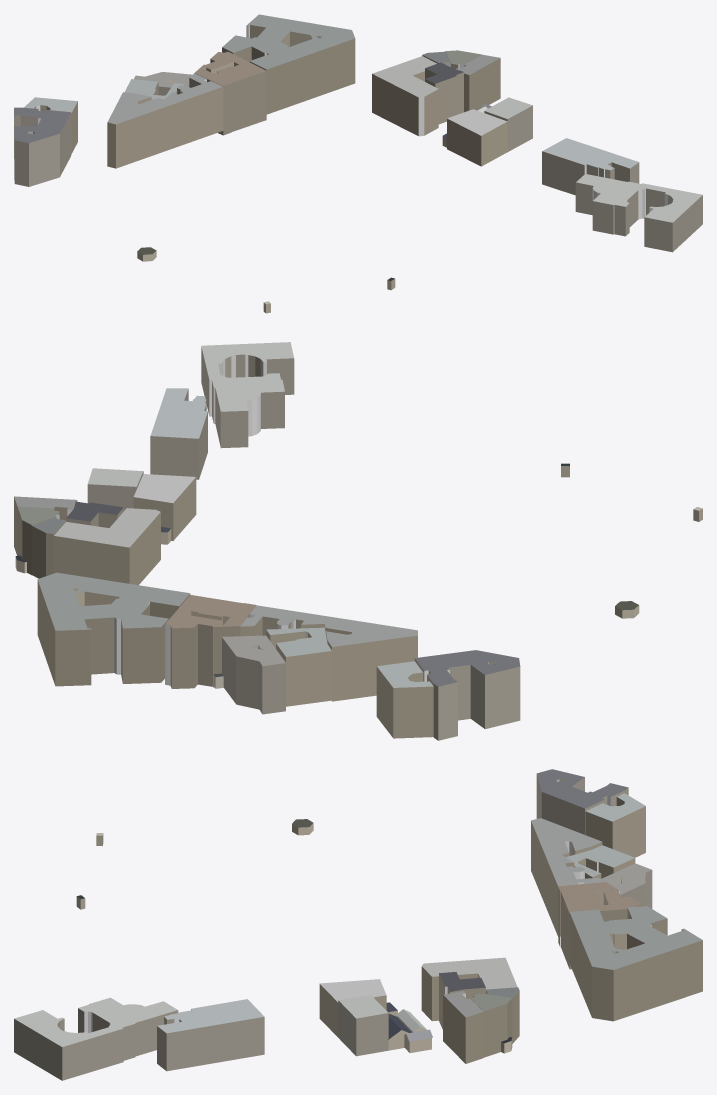
3 renders of one model, top to bottom at view 1: azimuth 30°, elevation 25°; view 2: azimuth 150°, elevation 25°; view 3: azimuth 270°, elevation 25°, orthographic. The views are drawn at different scales.
Visible parts, largest first — view 1: tuile; view 2: tuile; view 3: tuile.
Part boxes in pixels (x1=…): tuile: x1=14, y1=14, x2=702, y2=313; tuile: x1=14, y1=342, x2=702, y2=740; tuile: x1=14, y1=769, x2=702, y2=1080.
Size of the model in its own units: 270 by 27.79 by 299.
